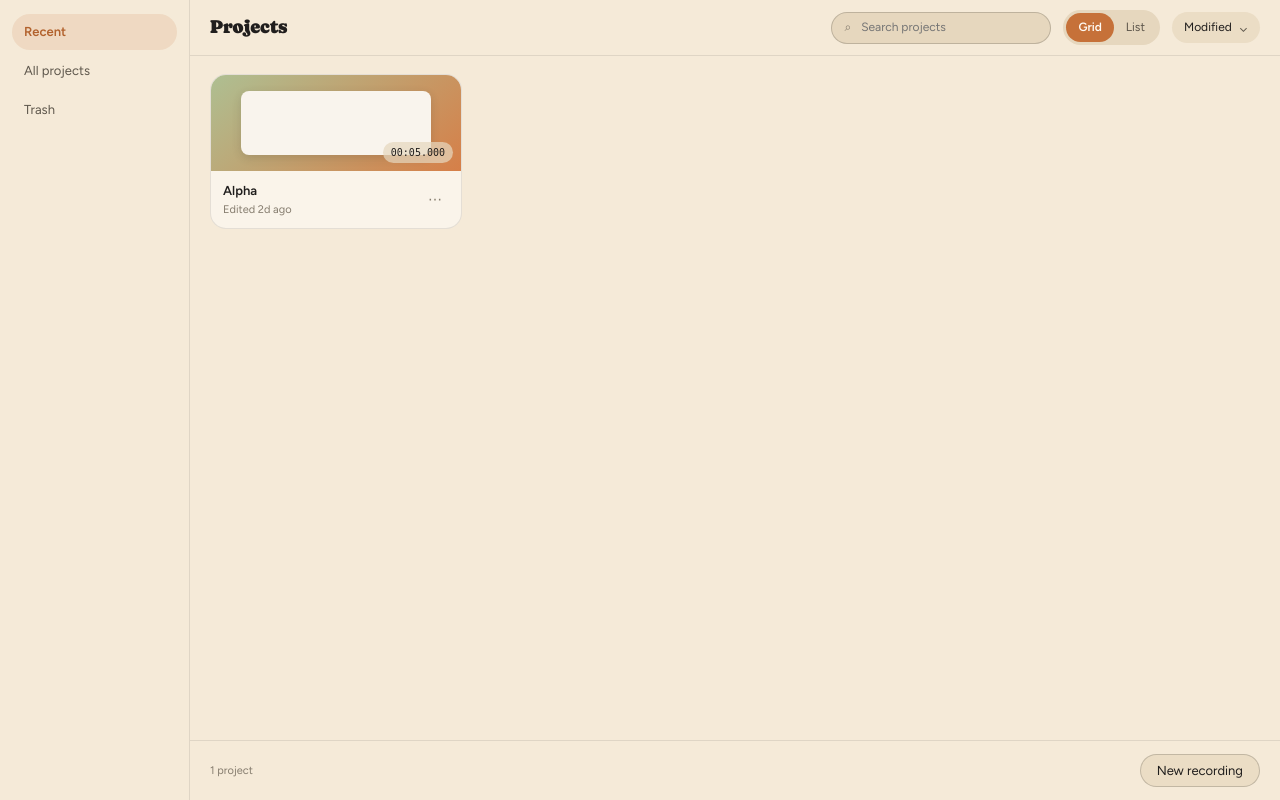
Test: ProjectsContainer: actions › a failed action keeps the dialog open and shows the error
Check: the button with aria-label "Open Alpha" is shown, box x1=210 y1=74 x2=462 y2=229
Click the button "⋯".
click(435, 200)  # box x1=421 y1=186 x2=449 y2=214
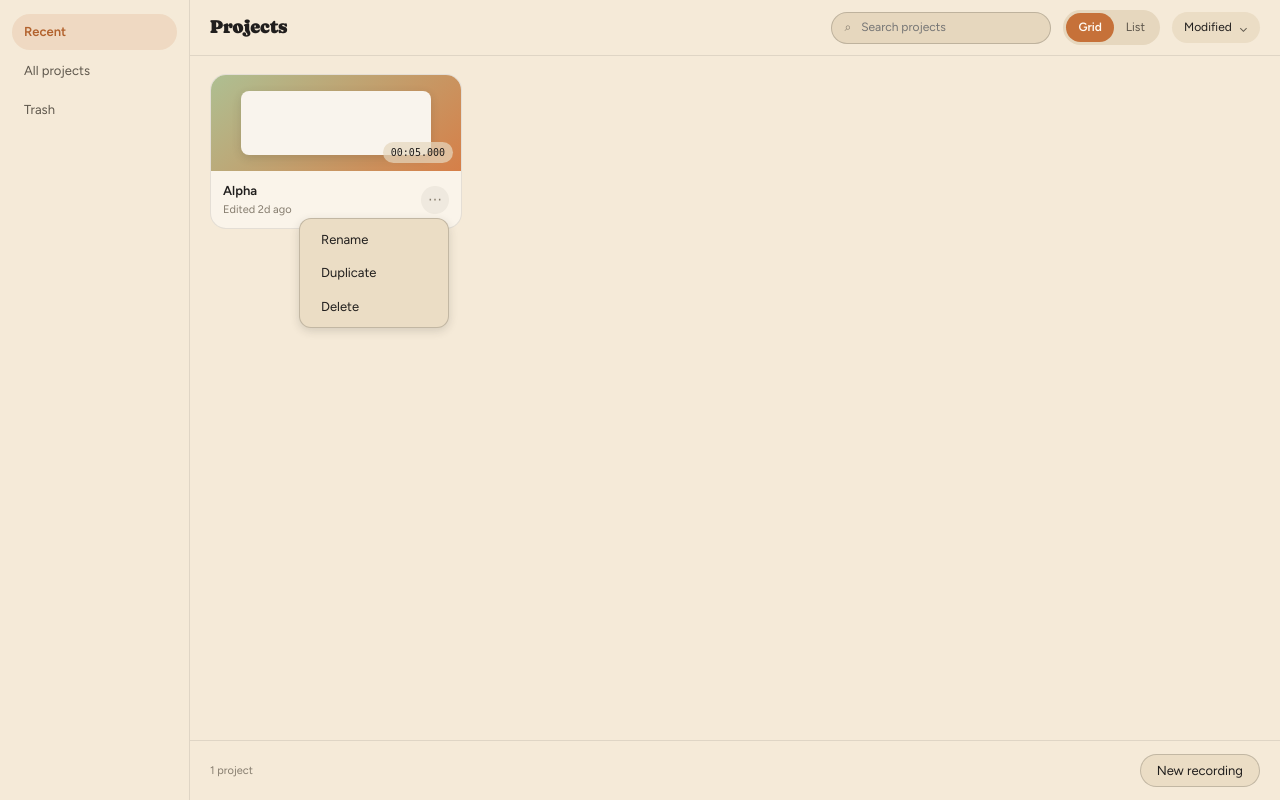
Click the menu item "Rename".
click(374, 239)  # box x1=304 y1=223 x2=444 y2=256
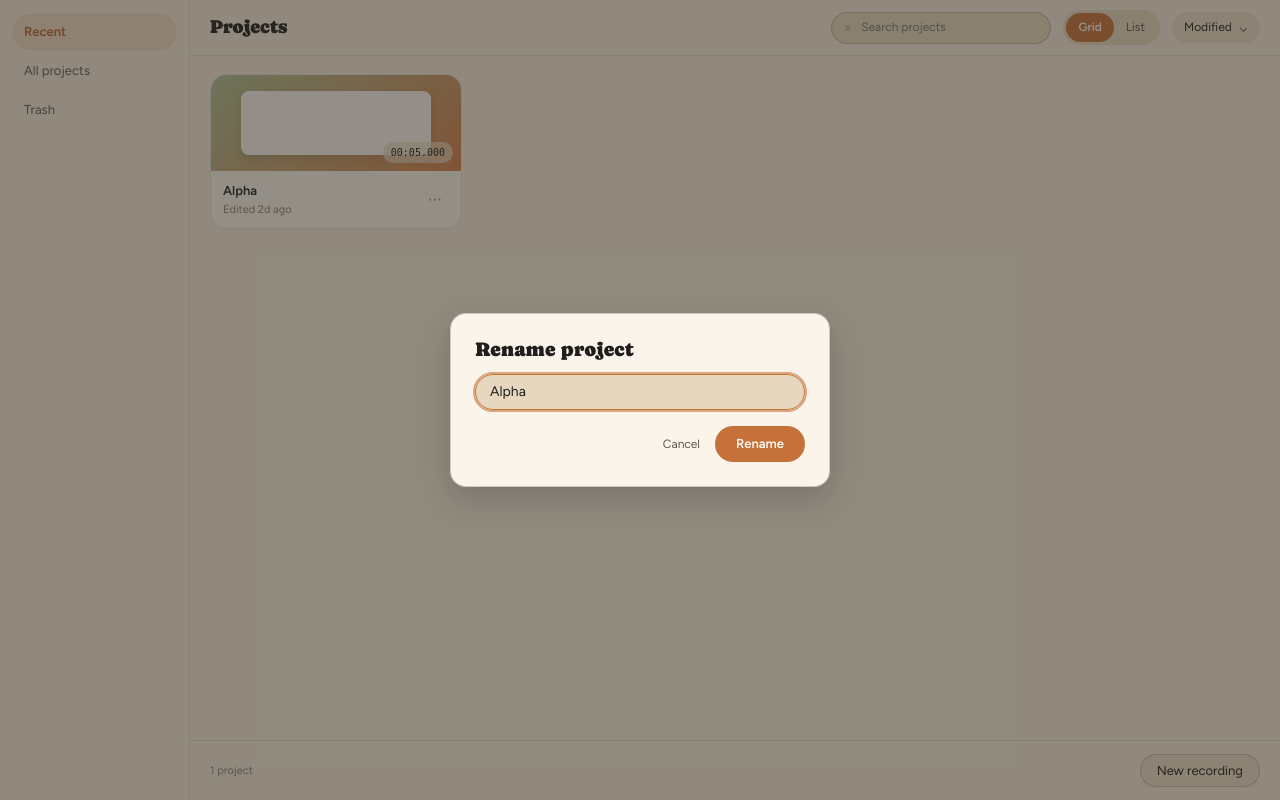
Click the button "Rename".
click(760, 444)  # box x1=715 y1=426 x2=805 y2=462
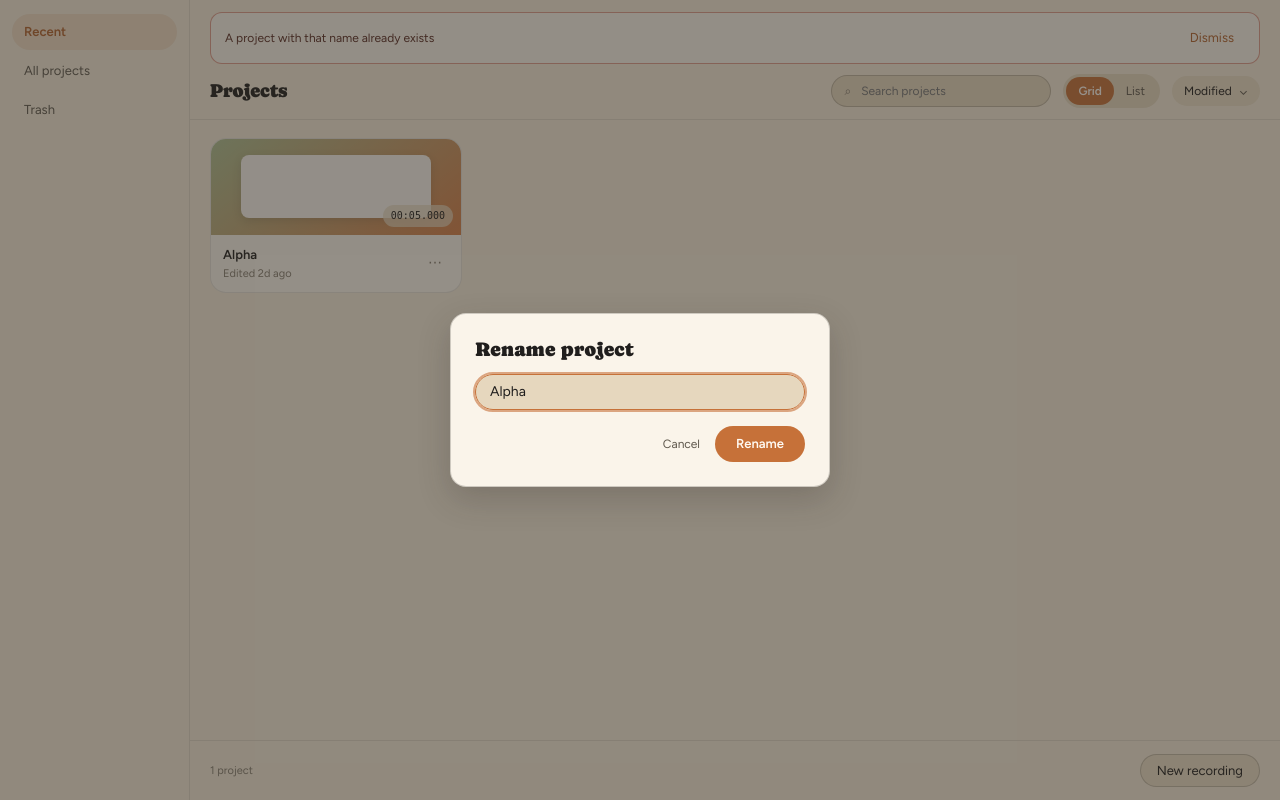
Check: the dialog is shown, box x1=450 y1=313 x2=830 y2=487
Check: the message shows "already exists", box x1=225 y1=30 x2=434 y2=44
